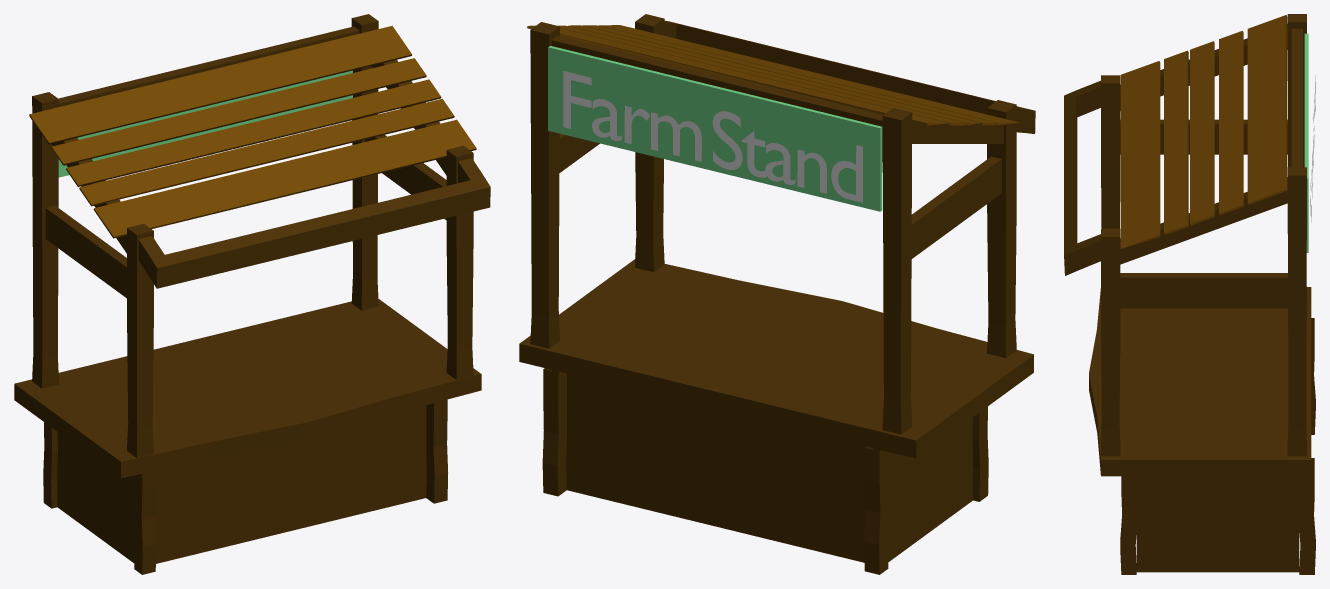
File: farm stand.fbx
3 views of the same model, side by side, from view 1: azimuth 30°, elevation 25°; view 2: azimuth 150°, elevation 25°; view 3: azimuth 270°, elevation 25° (orthographic). The views are drawn at different scales.
Parts seen in each view (by area): view 1: Cube; view 2: Cube, sign; view 3: Cube.
Boxes of the visible parts, x1,y1,x2,y2 form: Cube: (14, 14, 490, 574); Cube: (519, 14, 1035, 574); sign: (563, 71, 862, 202); Cube: (1064, 14, 1315, 574).
Bounding box in the file's own units: 423 × 458 × 257.
